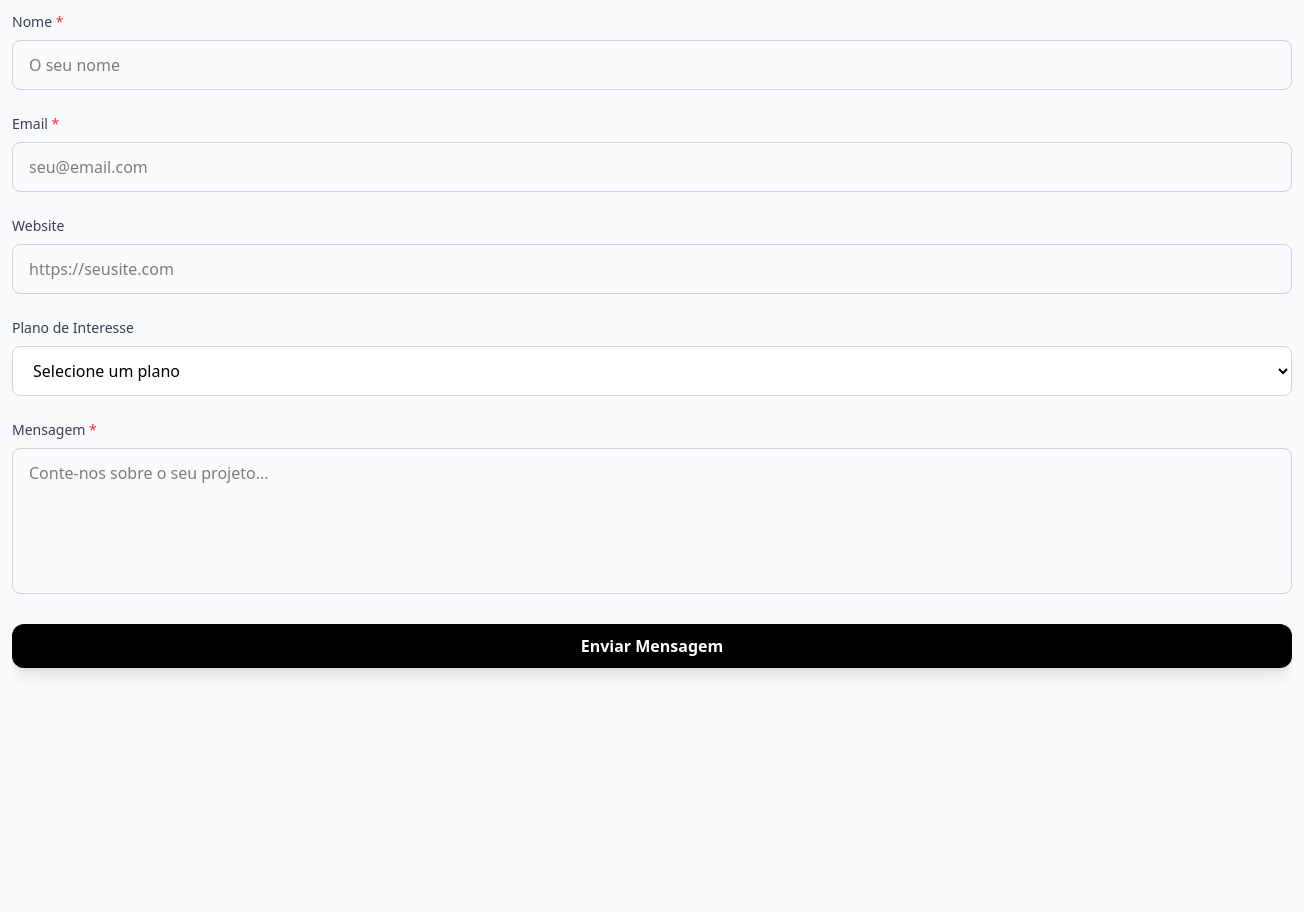
it: ContactForm Component › shows validation error for empty required fields
Click the button "Enviar Mensagem" at (652, 646), box [12, 624, 1292, 668]
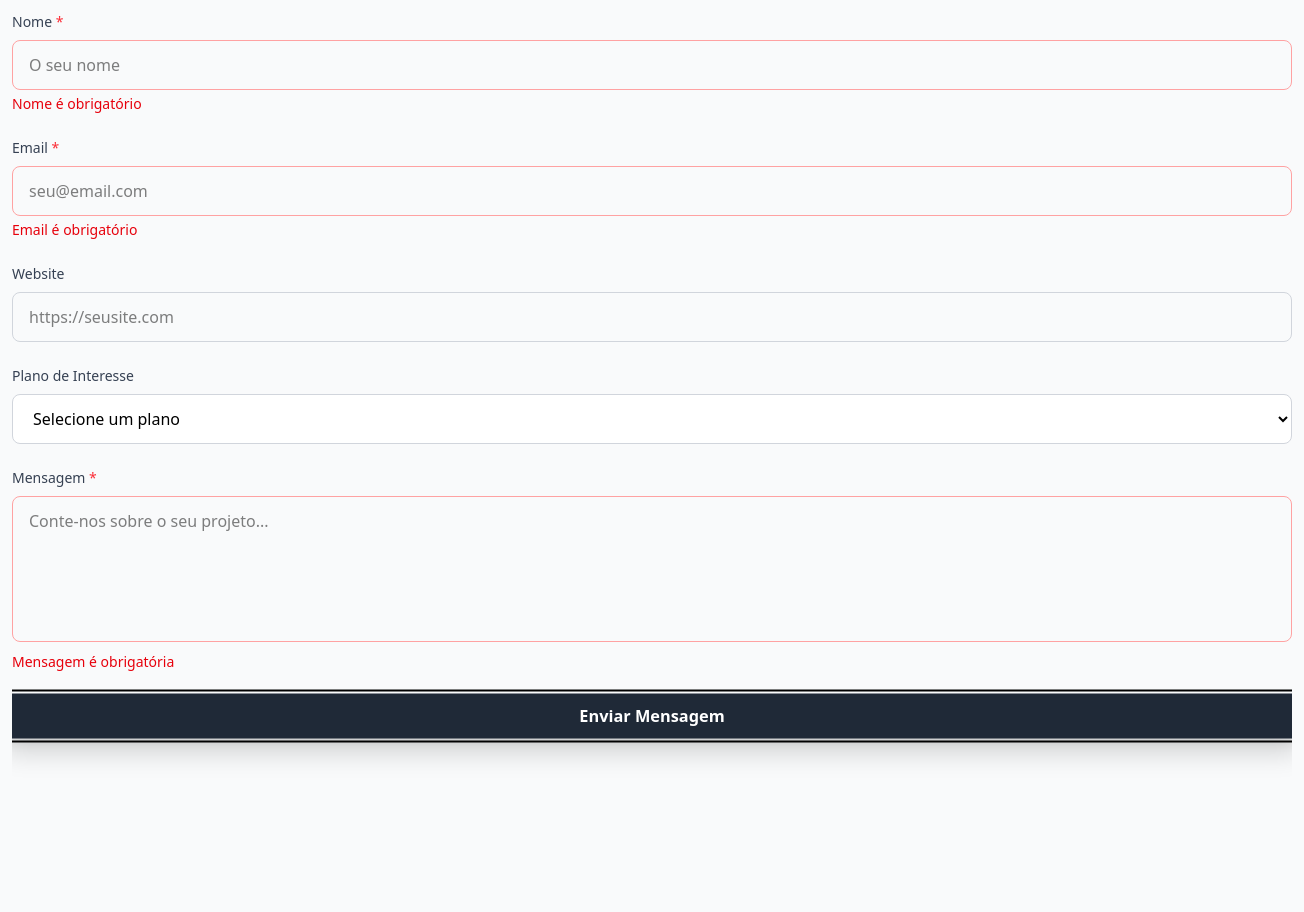
Now the text "Nome é obrigatório" is shown, box [12, 94, 142, 113]
